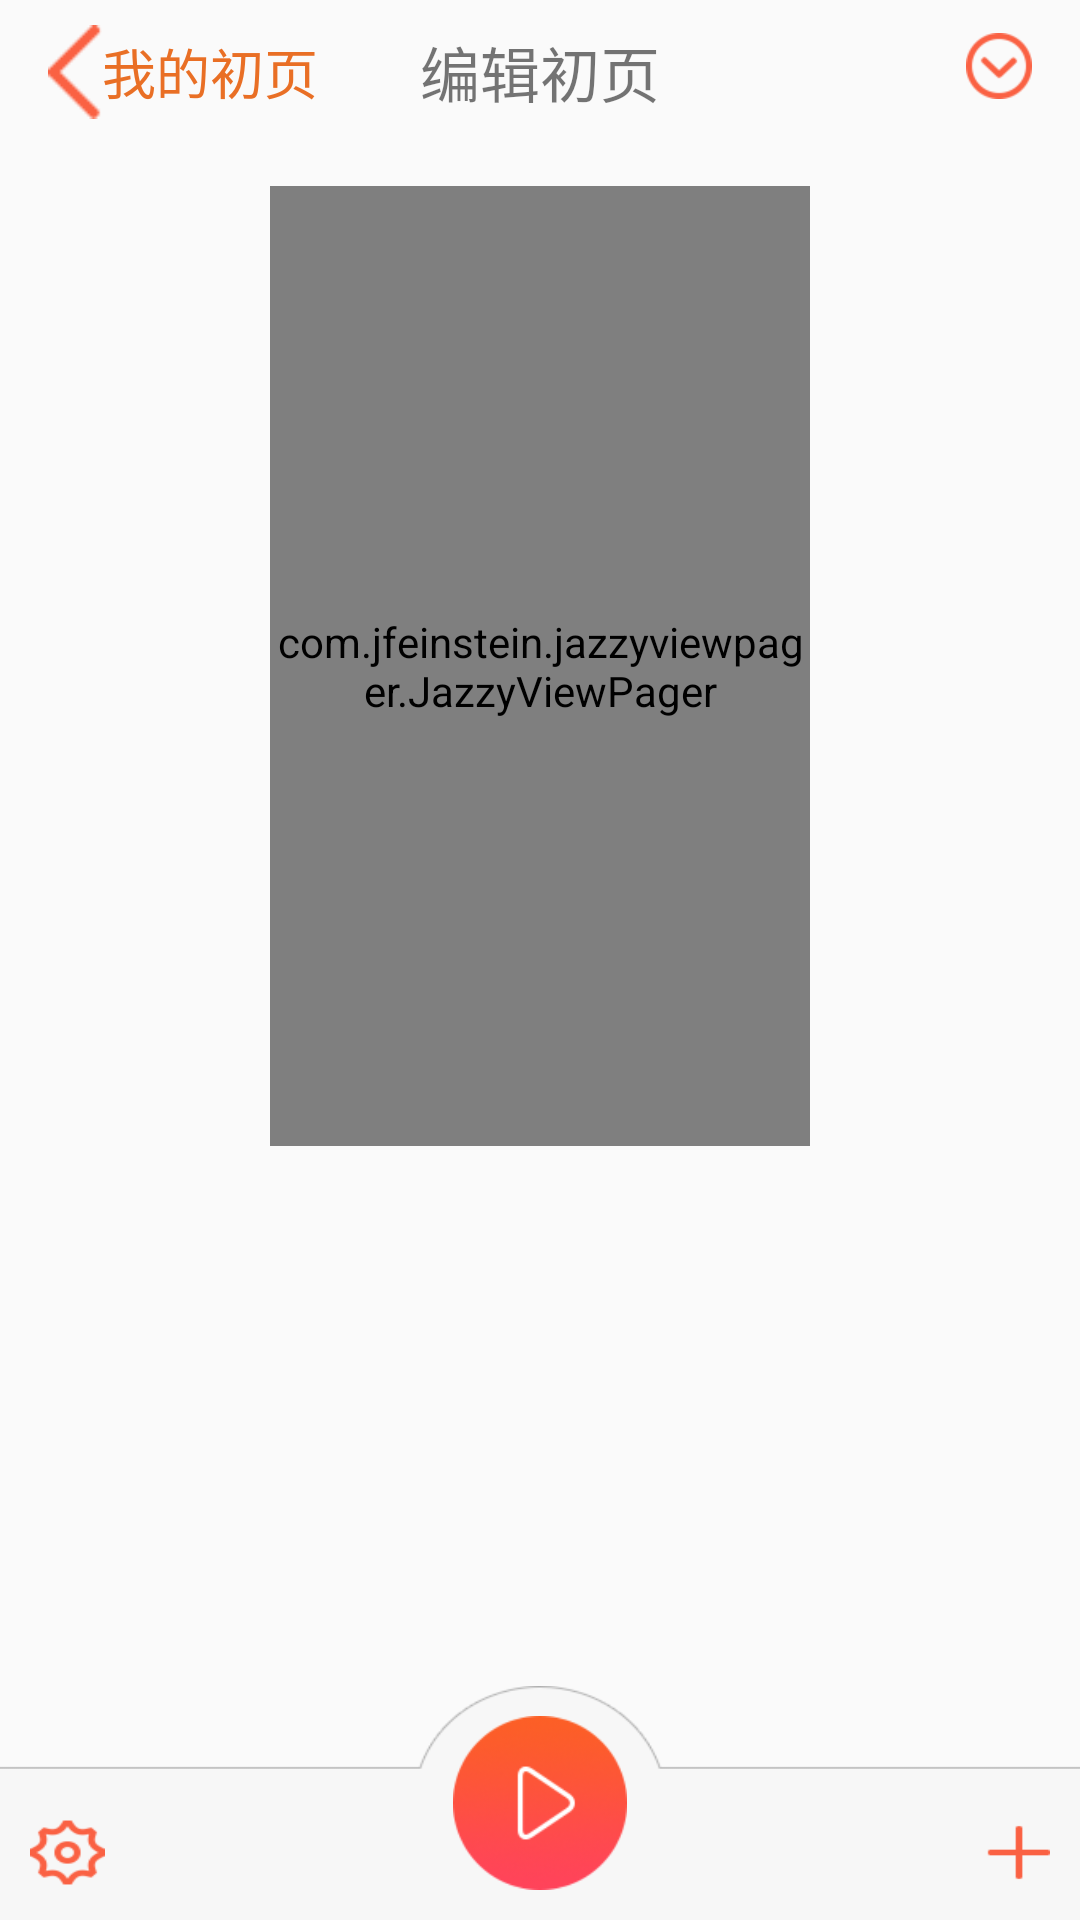

Where icons sit on this 1080px x 1920px app screen, as bbox=(x1, y1, x2, y2):
back: bbox=(48, 25, 101, 119)
